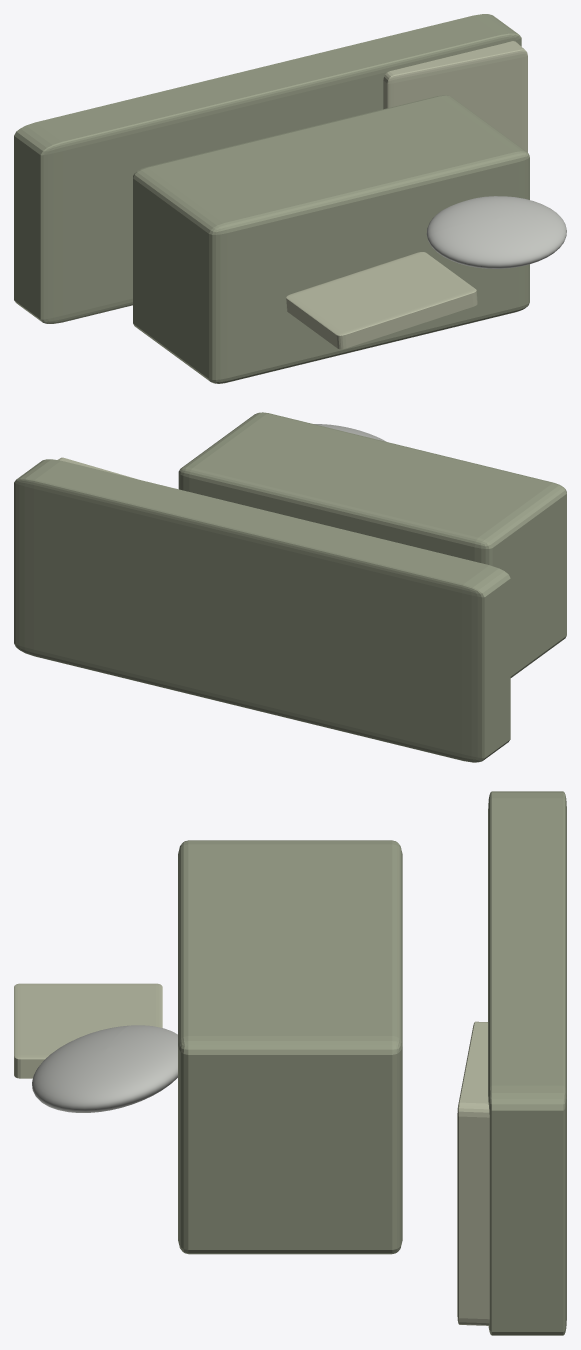
Rendered from v-u21-vanguard-command-vehicle-lod2.glb.
3 views of the same model, one above another, from view 1: azimuth 30°, elevation 25°; view 2: azimuth 150°, elevation 25°; view 3: azimuth 270°, elevation 25° (orthographic). The views are drawn at different scales.
Visible parts, largest first — view 1: command_body, chassis_lower, command_array_array, chassis_nose, command_dish; view 2: chassis_lower, command_body; view 3: command_body, chassis_lower, command_dish, chassis_nose, command_array_array.
Part boxes in pixels (x1,y1,x2,y2): command_body: [133, 95, 529, 383]; chassis_lower: [14, 14, 521, 323]; command_array_array: [286, 252, 477, 349]; chassis_nose: [383, 41, 527, 152]; command_dish: [426, 196, 566, 268]; chassis_lower: [14, 459, 510, 762]; command_body: [178, 412, 566, 677]; command_body: [178, 840, 402, 1254]; chassis_lower: [488, 791, 566, 1335]; command_dish: [32, 1025, 177, 1112]; chassis_nose: [457, 1021, 489, 1325]; command_array_array: [14, 983, 162, 1078].
Size of what is drawn, in the model's own units: 6.59 by 2.37 by 4.88.
